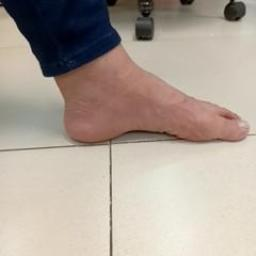Medial View -Left Foot-: (38, 46, 255, 164)
